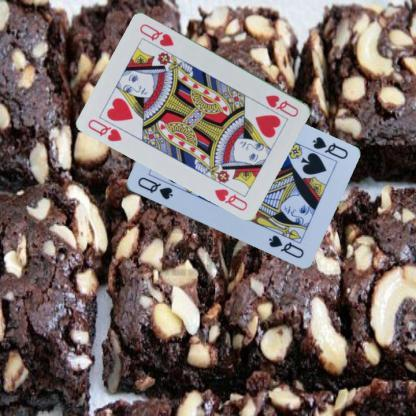Qh: (86, 116, 124, 143), (262, 92, 300, 118)
Qs: (135, 174, 174, 202), (310, 134, 350, 161)
